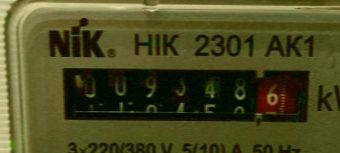0: (80, 75, 96, 102), (111, 73, 125, 99)
3: (172, 74, 186, 99)
4: (199, 72, 217, 103)
6: (262, 81, 279, 110)
8: (231, 76, 246, 104)
9: (142, 76, 156, 103)
screen: (43, 55, 321, 135)
